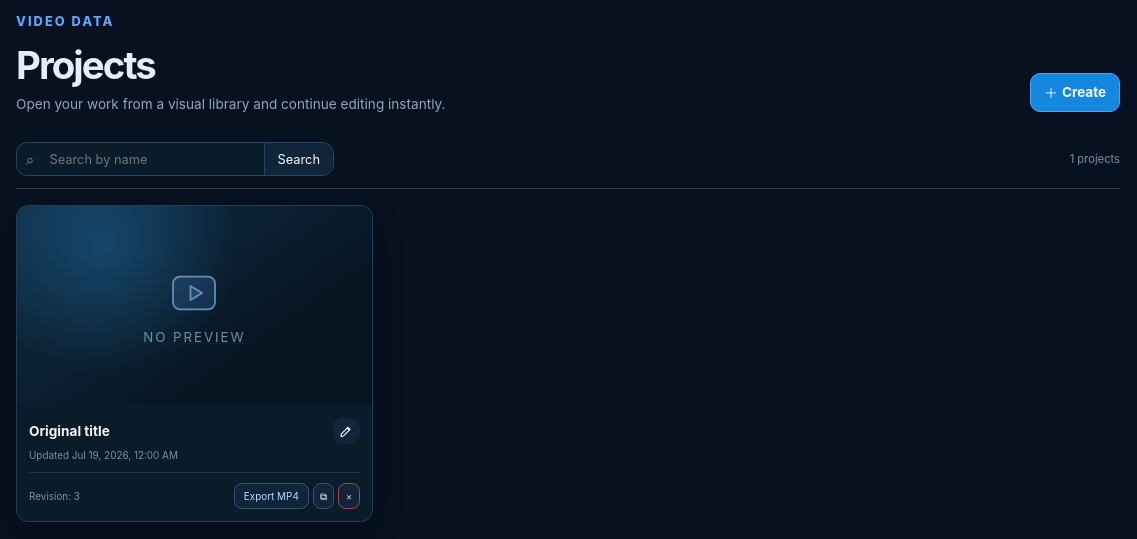
Scenario: ProjectListPage › renames a project from its card
Click the button named "Edit title" at (347, 431), box [333,418,360,444]
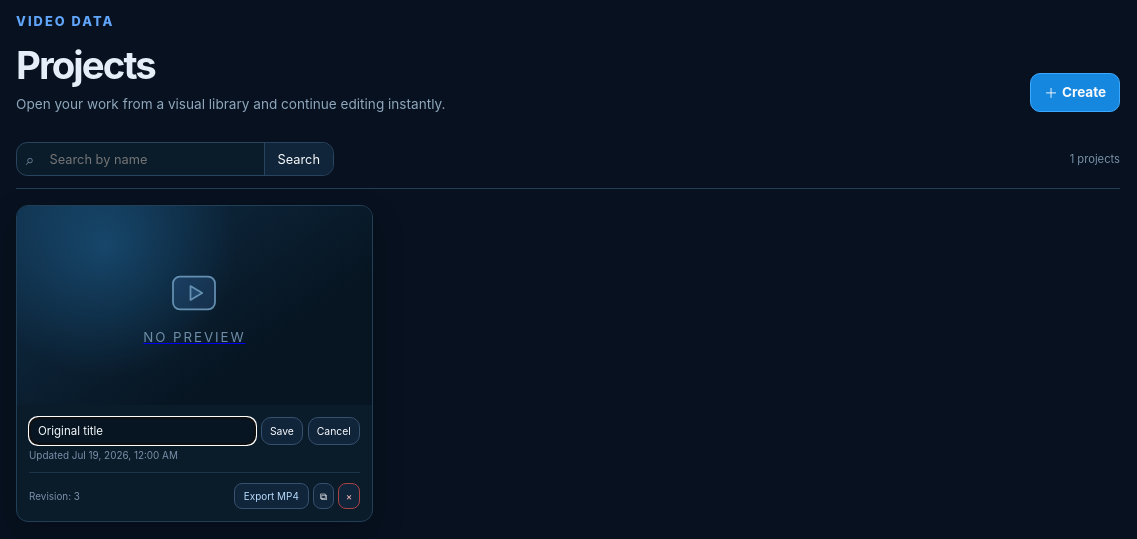
Replace the text in the field named "Project title" with "Updated title" at (143, 431), box [29,417,256,445]
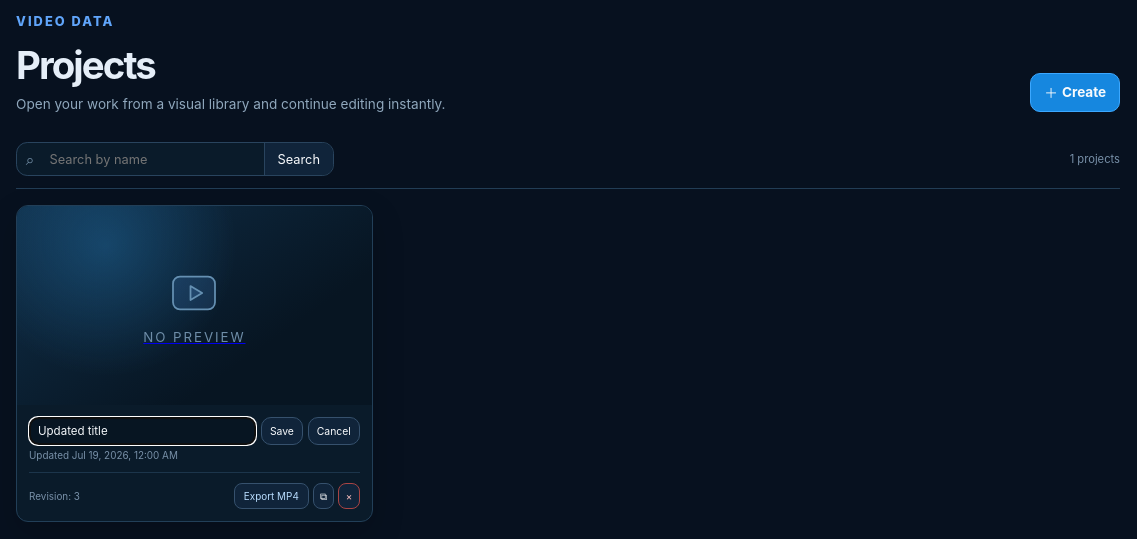
Click the button "Save" at (282, 431), box [261,417,303,445]
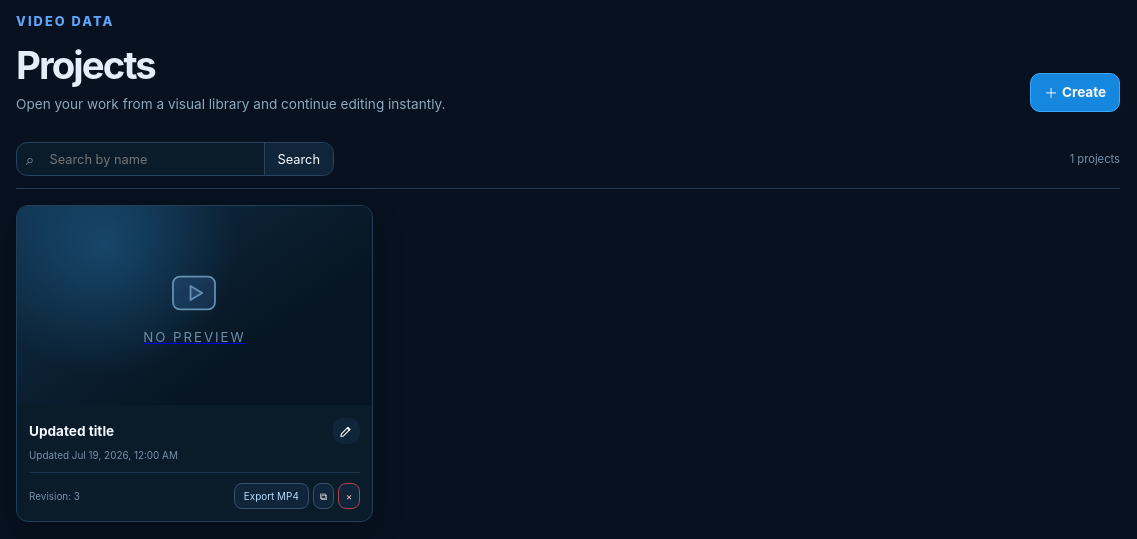
Expected: the heading "Updated title" is shown, [29,423,114,439]
